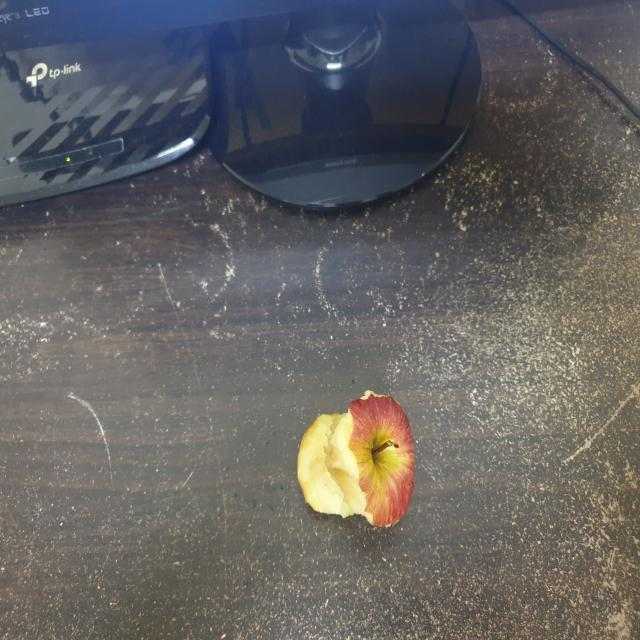apple: (291, 376, 431, 535)
